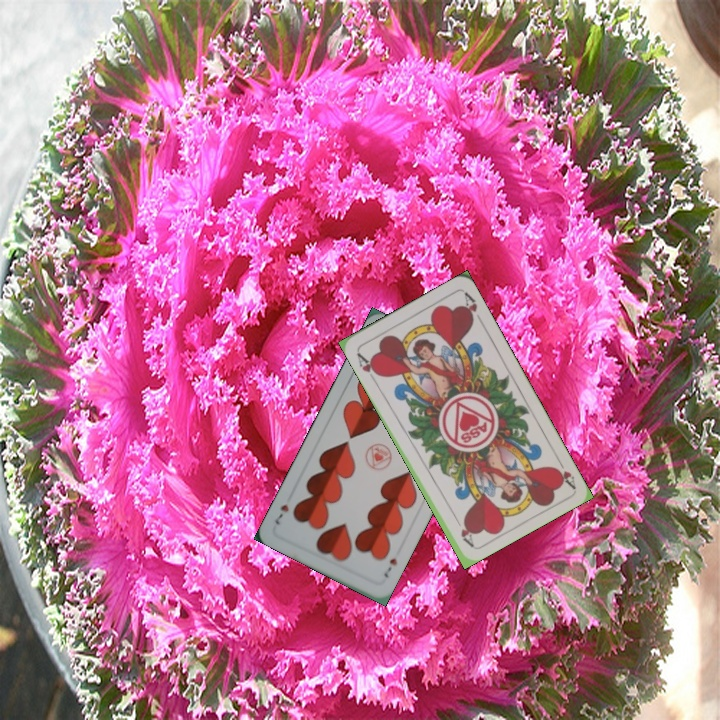H7: (379, 554, 400, 580)
HA: (352, 348, 382, 385), (549, 452, 578, 490)
